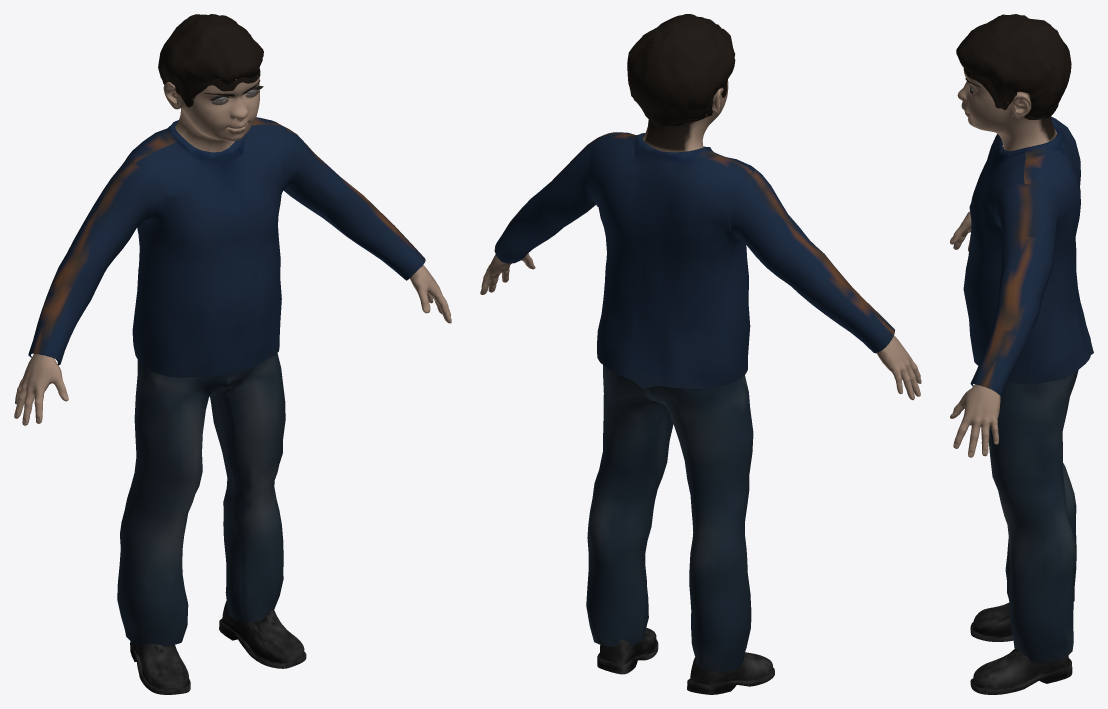
Rendered from 0316-People-cast-cooked-mh-11.glb.
3 views of the same model, side by side, from view 1: azimuth 30°, elevation 25°; view 2: azimuth 150°, elevation 25°; view 3: azimuth 270°, elevation 25° (orthographic).
Visible parts, largest first — view 1: People: cast (cooked)/mh_11; view 2: People: cast (cooked)/mh_11; view 3: People: cast (cooked)/mh_11.
Part boxes in pixels (left/top/right/bottom): People: cast (cooked)/mh_11: left=14, top=14, right=451, bottom=694; People: cast (cooked)/mh_11: left=480, top=14, right=921, bottom=694; People: cast (cooked)/mh_11: left=950, top=14, right=1093, bottom=694.
Bounding box in the file's own units: 0.7421 × 1.07 × 0.2173.
